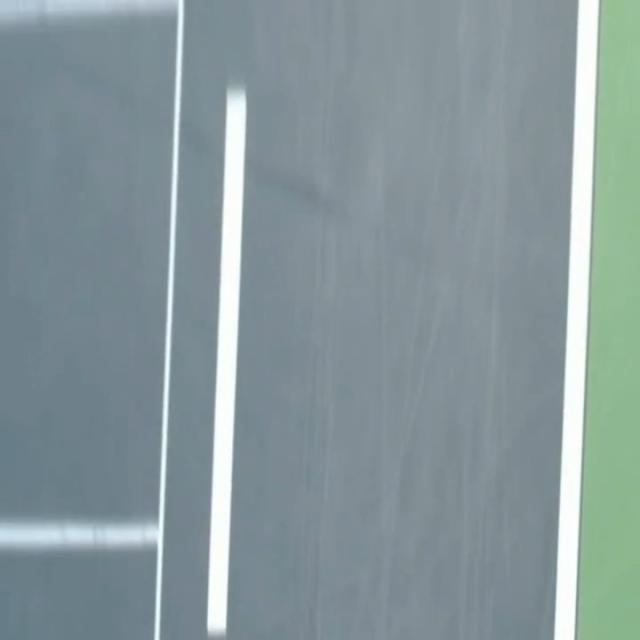center: (207, 87, 245, 636)
right: (554, 0, 599, 639)
